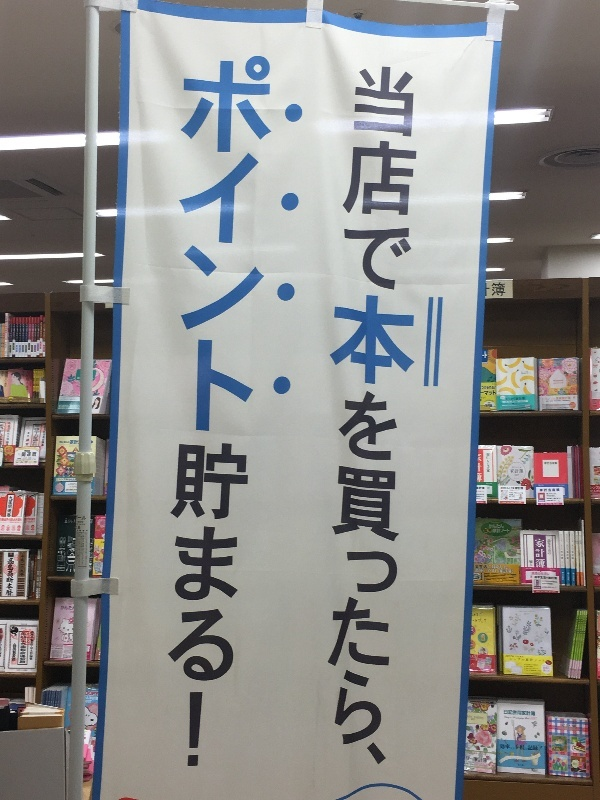text: (193, 44, 208, 773), (209, 44, 224, 773), (225, 44, 240, 773), (241, 44, 256, 773), (257, 44, 272, 773), (353, 65, 368, 769), (369, 65, 384, 769), (385, 65, 400, 769), (401, 65, 416, 769), (178, 44, 192, 773), (417, 65, 428, 769), (273, 44, 278, 773), (347, 65, 352, 769), (1, 628, 16, 657), (1, 422, 16, 448), (17, 422, 32, 448), (35, 563, 48, 593), (33, 422, 47, 448), (562, 534, 576, 560), (481, 386, 496, 409), (21, 633, 32, 664), (8, 558, 16, 596), (535, 539, 544, 568), (545, 489, 561, 505), (566, 535, 576, 560), (81, 532, 88, 566), (21, 555, 32, 576), (545, 576, 557, 594), (486, 453, 496, 473), (501, 487, 512, 504), (19, 450, 32, 464), (548, 540, 560, 555), (5, 371, 16, 387), (37, 571, 48, 587), (513, 487, 523, 504), (535, 576, 544, 594), (513, 396, 528, 406), (76, 532, 80, 566), (481, 565, 496, 574), (497, 565, 512, 574), (10, 496, 16, 518), (486, 283, 496, 296), (529, 655, 545, 663), (497, 283, 506, 297), (562, 572, 576, 581), (513, 467, 523, 479), (513, 655, 528, 663), (497, 524, 510, 533), (482, 352, 496, 360), (530, 560, 544, 568), (501, 396, 512, 406), (484, 524, 496, 533), (465, 756, 480, 763), (513, 744, 528, 751), (572, 535, 576, 560), (513, 710, 528, 716), (472, 613, 480, 623), (501, 744, 512, 751), (65, 519, 80, 524), (481, 487, 485, 504), (540, 489, 544, 505), (568, 573, 576, 581), (529, 744, 538, 751), (545, 397, 560, 401), (481, 613, 487, 623), (86, 697, 96, 703), (478, 454, 480, 483), (492, 283, 496, 297), (33, 450, 37, 464), (33, 633, 35, 661), (65, 440, 79, 444), (477, 487, 480, 504), (13, 644, 16, 661), (593, 486, 600, 493), (506, 655, 512, 663), (504, 710, 512, 716), (545, 462, 560, 465), (65, 606, 74, 611), (1, 519, 16, 522), (481, 756, 487, 763), (529, 710, 536, 716), (561, 397, 571, 401), (86, 692, 96, 696), (476, 565, 480, 574), (545, 666, 550, 672), (481, 454, 482, 483), (545, 539, 546, 568), (31, 633, 32, 661), (573, 573, 576, 582), (81, 515, 86, 520), (91, 519, 96, 524), (510, 467, 512, 479), (532, 573, 544, 575), (25, 518, 32, 521), (76, 515, 80, 520), (76, 521, 80, 526), (81, 521, 85, 526), (60, 440, 64, 444), (76, 526, 80, 530), (61, 606, 64, 611), (17, 519, 22, 522), (590, 486, 592, 493), (97, 697, 99, 703), (545, 573, 550, 575), (513, 565, 514, 574), (33, 518, 36, 521), (97, 692, 99, 696), (543, 666, 544, 672)
